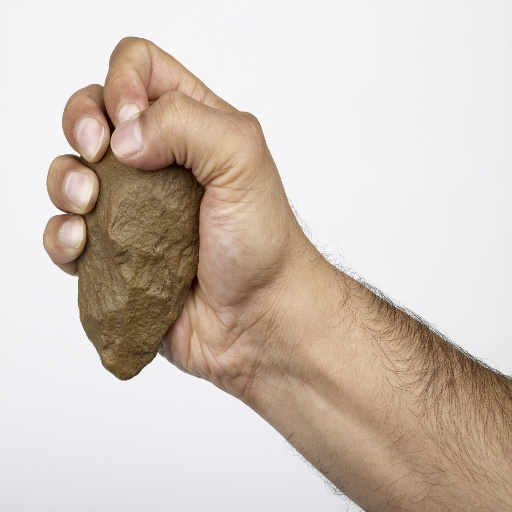hand: (45, 38, 291, 386)
